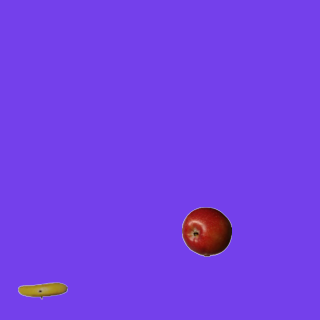Apple Braeburn: (181, 206, 231, 256)
Banana: (17, 265, 67, 315)
